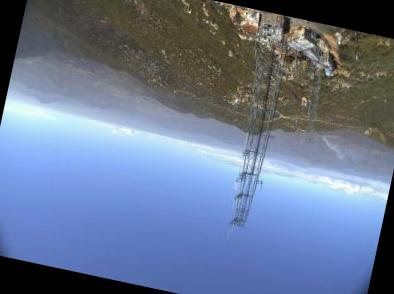smoke: (315, 129, 376, 170)
